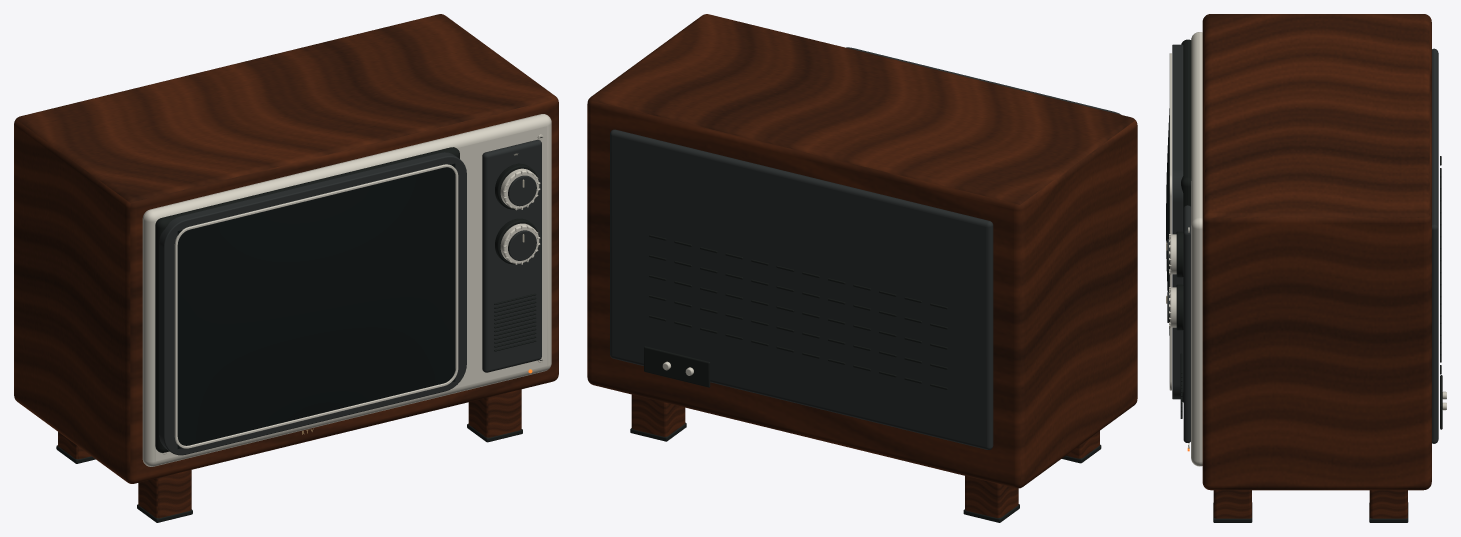
File: spot-crt.glb
3 renders of one model, left to right at view 1: azimuth 30°, elevation 25°; view 2: azimuth 150°, elevation 25°; view 3: azimuth 270°, elevation 25°, orthographic. The views are drawn at different scales.
Visible parts, largest first — view 1: Spot_WalnutCabinet, Spot_Screen, Spot_FrontAluminumFascia, Spot_ScreenSurround, Spot_ControlRecess, Spot_ScreenBrightTrim, Spot_RecessedScreenBed, Spot_WalnutFoot.003, Spot_WalnutFoot.001, Spot_DialFace_0, Spot_DialFace_1; view 2: Spot_WalnutCabinet, Spot_RearServicePanel, Spot_WalnutFoot.002, Spot_WalnutFoot, Spot_BackPortPlate; view 3: Spot_WalnutCabinet, Spot_FrontAluminumFascia, Spot_ScreenSurround, Spot_RearServicePanel, Spot_ControlRecess, Spot_RecessedScreenBed, Spot_WalnutFoot.002, Spot_WalnutFoot.003, Spot_ScreenBrightTrim, Spot_Screen, Spot_DialBack_0, Spot_DialBack_1.
Part boxes in pixels (x1,y1,x2,y2): Spot_WalnutCabinet: (14, 14, 558, 483); Spot_Screen: (177, 163, 455, 448); Spot_FrontAluminumFascia: (142, 114, 551, 466); Spot_ScreenSurround: (159, 152, 466, 455); Spot_ControlRecess: (482, 139, 541, 372); Spot_ScreenBrightTrim: (174, 164, 458, 448); Spot_RecessedScreenBed: (155, 147, 459, 452); Spot_WalnutFoot.003: (468, 389, 521, 437); Spot_WalnutFoot.001: (138, 470, 191, 518); Spot_DialFace_0: (508, 175, 536, 206); Spot_DialFace_1: (508, 230, 536, 260); Spot_WalnutCabinet: (587, 14, 1137, 488); Spot_RearServicePanel: (610, 129, 993, 449); Spot_WalnutFoot.002: (631, 394, 685, 436); Spot_WalnutFoot: (965, 476, 1018, 518); Spot_BackPortPlate: (644, 346, 710, 387); Spot_WalnutCabinet: (1202, 14, 1431, 490); Spot_FrontAluminumFascia: (1191, 32, 1202, 466); Spot_ScreenSurround: (1172, 44, 1183, 399); Spot_RearServicePanel: (1432, 48, 1438, 443); Spot_ControlRecess: (1183, 205, 1190, 442); Spot_RecessedScreenBed: (1181, 39, 1191, 402); Spot_WalnutFoot.002: (1369, 490, 1407, 518); Spot_WalnutFoot.003: (1213, 490, 1251, 518); Spot_ScreenBrightTrim: (1169, 53, 1171, 390); Spot_Screen: (1166, 108, 1169, 335); Spot_DialBack_0: (1176, 231, 1183, 277); Spot_DialBack_1: (1176, 284, 1183, 330).
Size of the model in its own units: 1.52 by 1.12 by 0.8825.
Materials: 8 (1 with a texture image).
